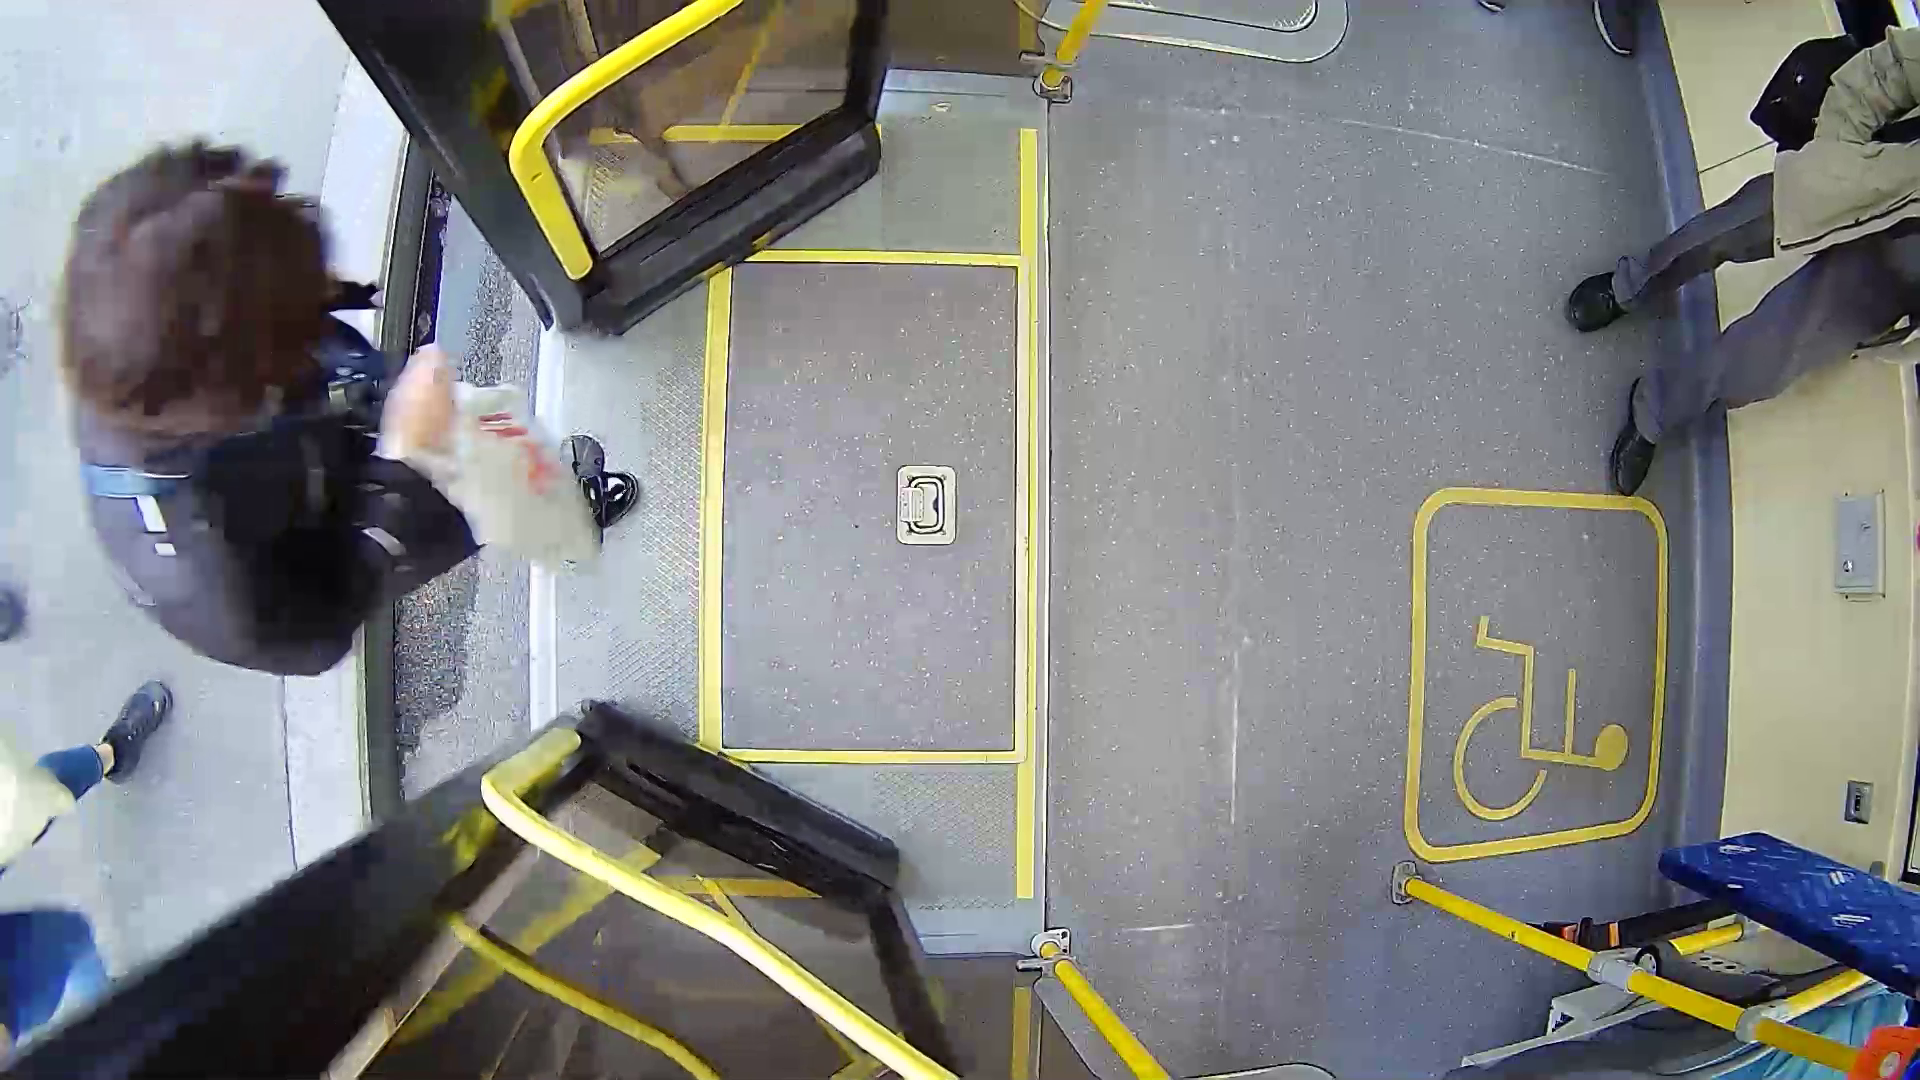person: (64, 132, 727, 686)
